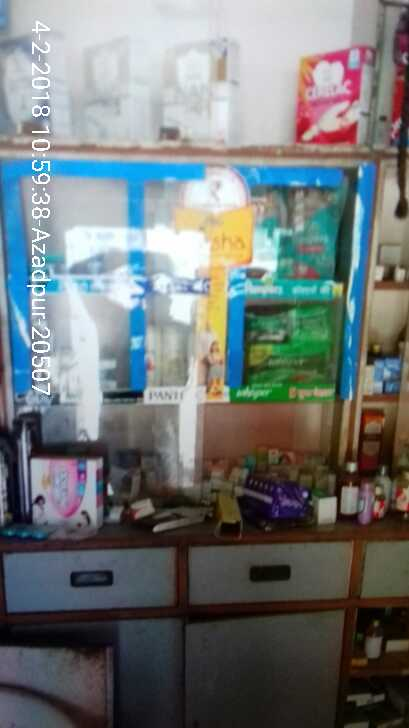vicks: (40, 242, 109, 271)
